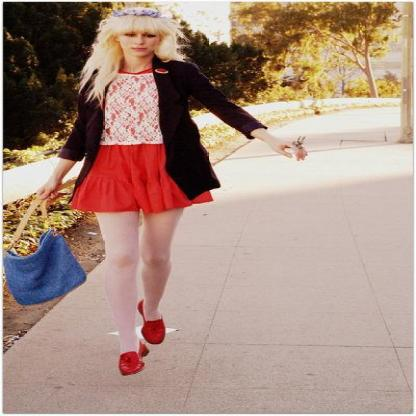bag: (0, 201, 87, 305)
dress: (68, 64, 211, 218)
jacket: (63, 50, 261, 191)
shoe: (119, 317, 164, 374)
